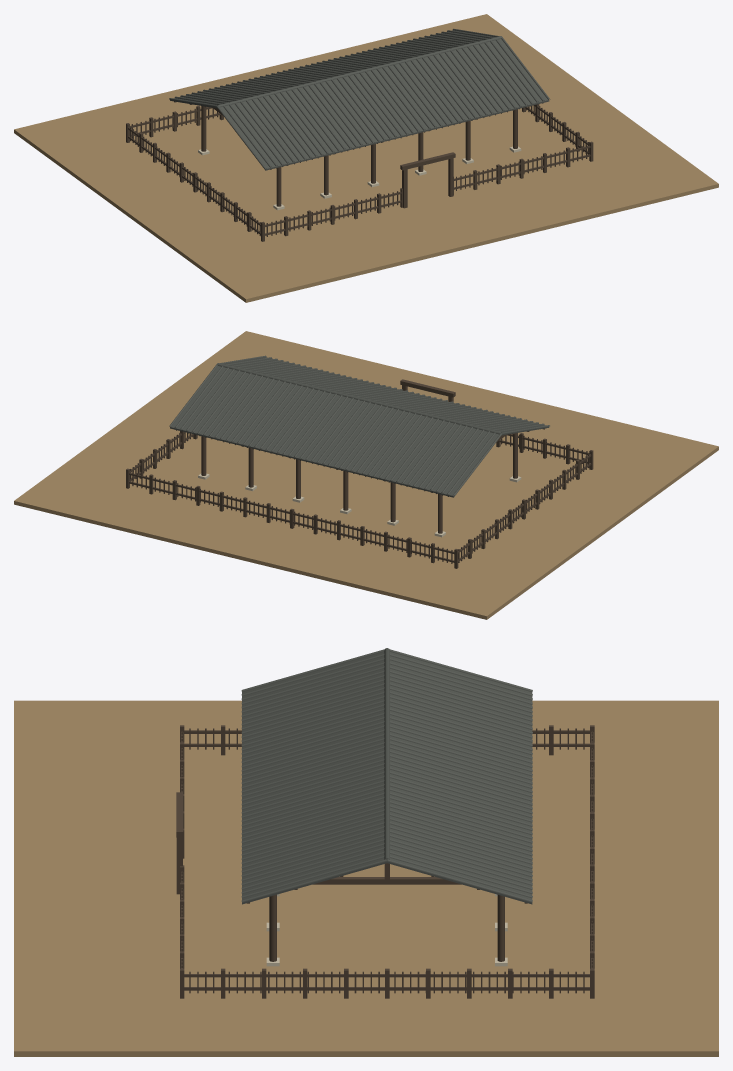
Rendered from stoneclassic_access_near.glb.
3 views of the same model, one above another, from view 1: azimuth 30°, elevation 25°; view 2: azimuth 150°, elevation 25°; view 3: azimuth 270°, elevation 25° (orthographic). The views are drawn at different scales.
Parts seen in each view (by area): view 1: LY_stoneclassic_access_court_C_v1_near; view 2: LY_stoneclassic_access_court_C_v1_near; view 3: LY_stoneclassic_access_court_C_v1_near.
Boxes of the visible parts, x1=… form: LY_stoneclassic_access_court_C_v1_near: x1=14, y1=14, x2=718, y2=302; LY_stoneclassic_access_court_C_v1_near: x1=14, y1=331, x2=718, y2=619; LY_stoneclassic_access_court_C_v1_near: x1=14, y1=648, x2=718, y2=1056.
Bounding box in the file's own units: 40 × 6.84 × 34.
